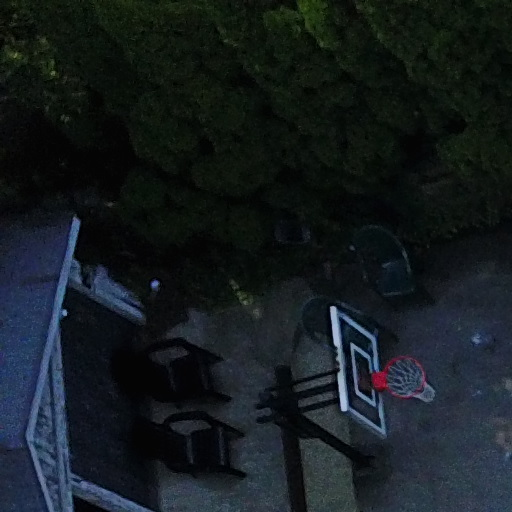basketball: (248, 294, 467, 512)
